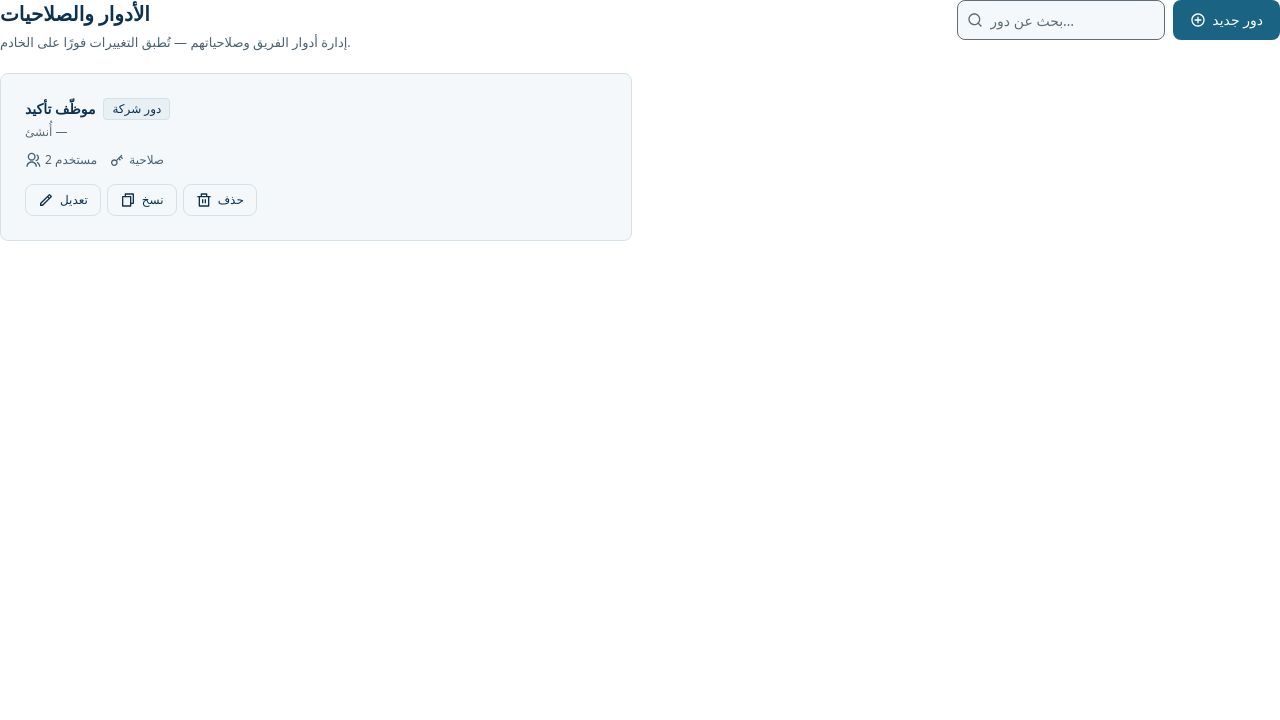
Test: a role that works the queue › and is not warned once it can
Expected: the text "موظّف تأكيد" is shown, x1=25 y1=99 x2=95 y2=119
Click the button "تعديل" at (63, 200), box x1=25 y1=184 x2=101 y2=216
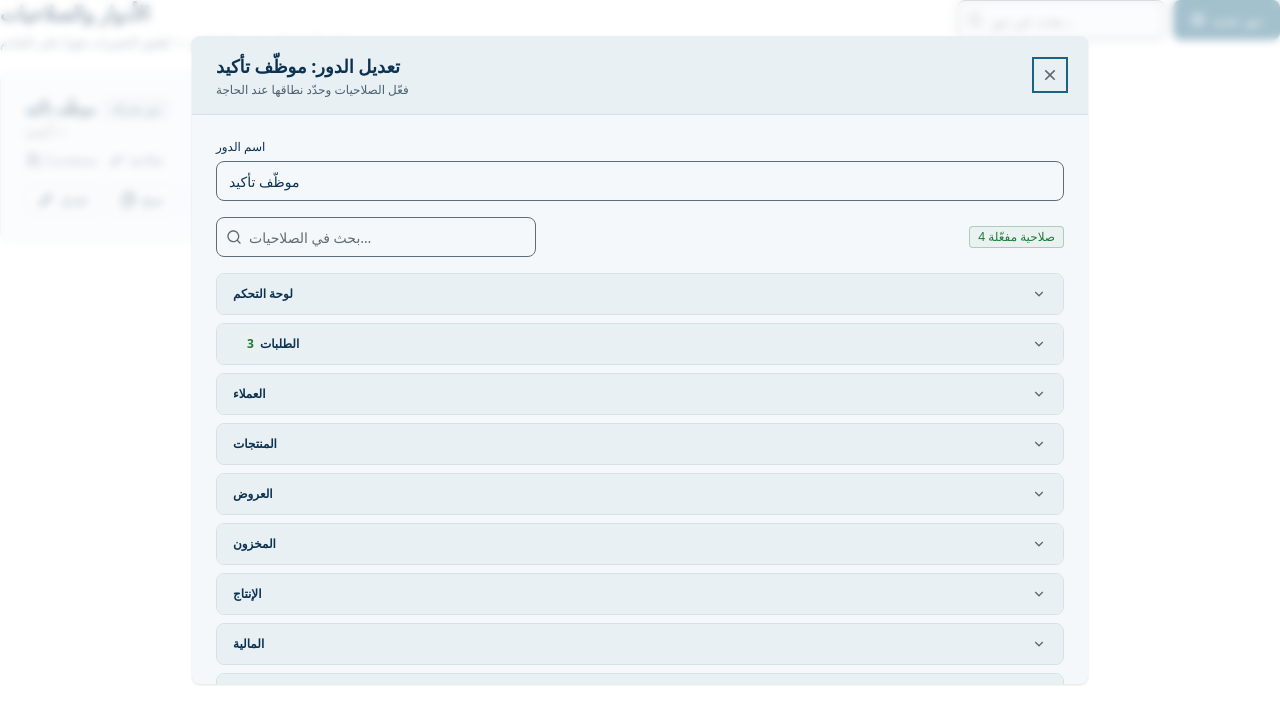
Now the text "الطلبات" is shown, box x1=260 y1=335 x2=299 y2=352
